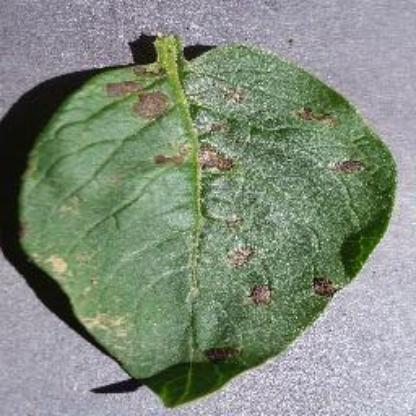Early-Blight: (17, 21, 406, 404)
